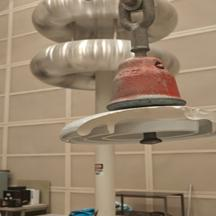insulator: (46, 48, 216, 158)
